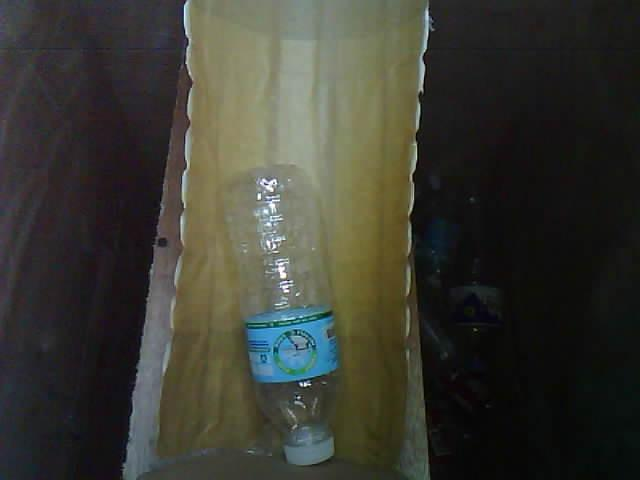small_bottle: (209, 157, 368, 480)
